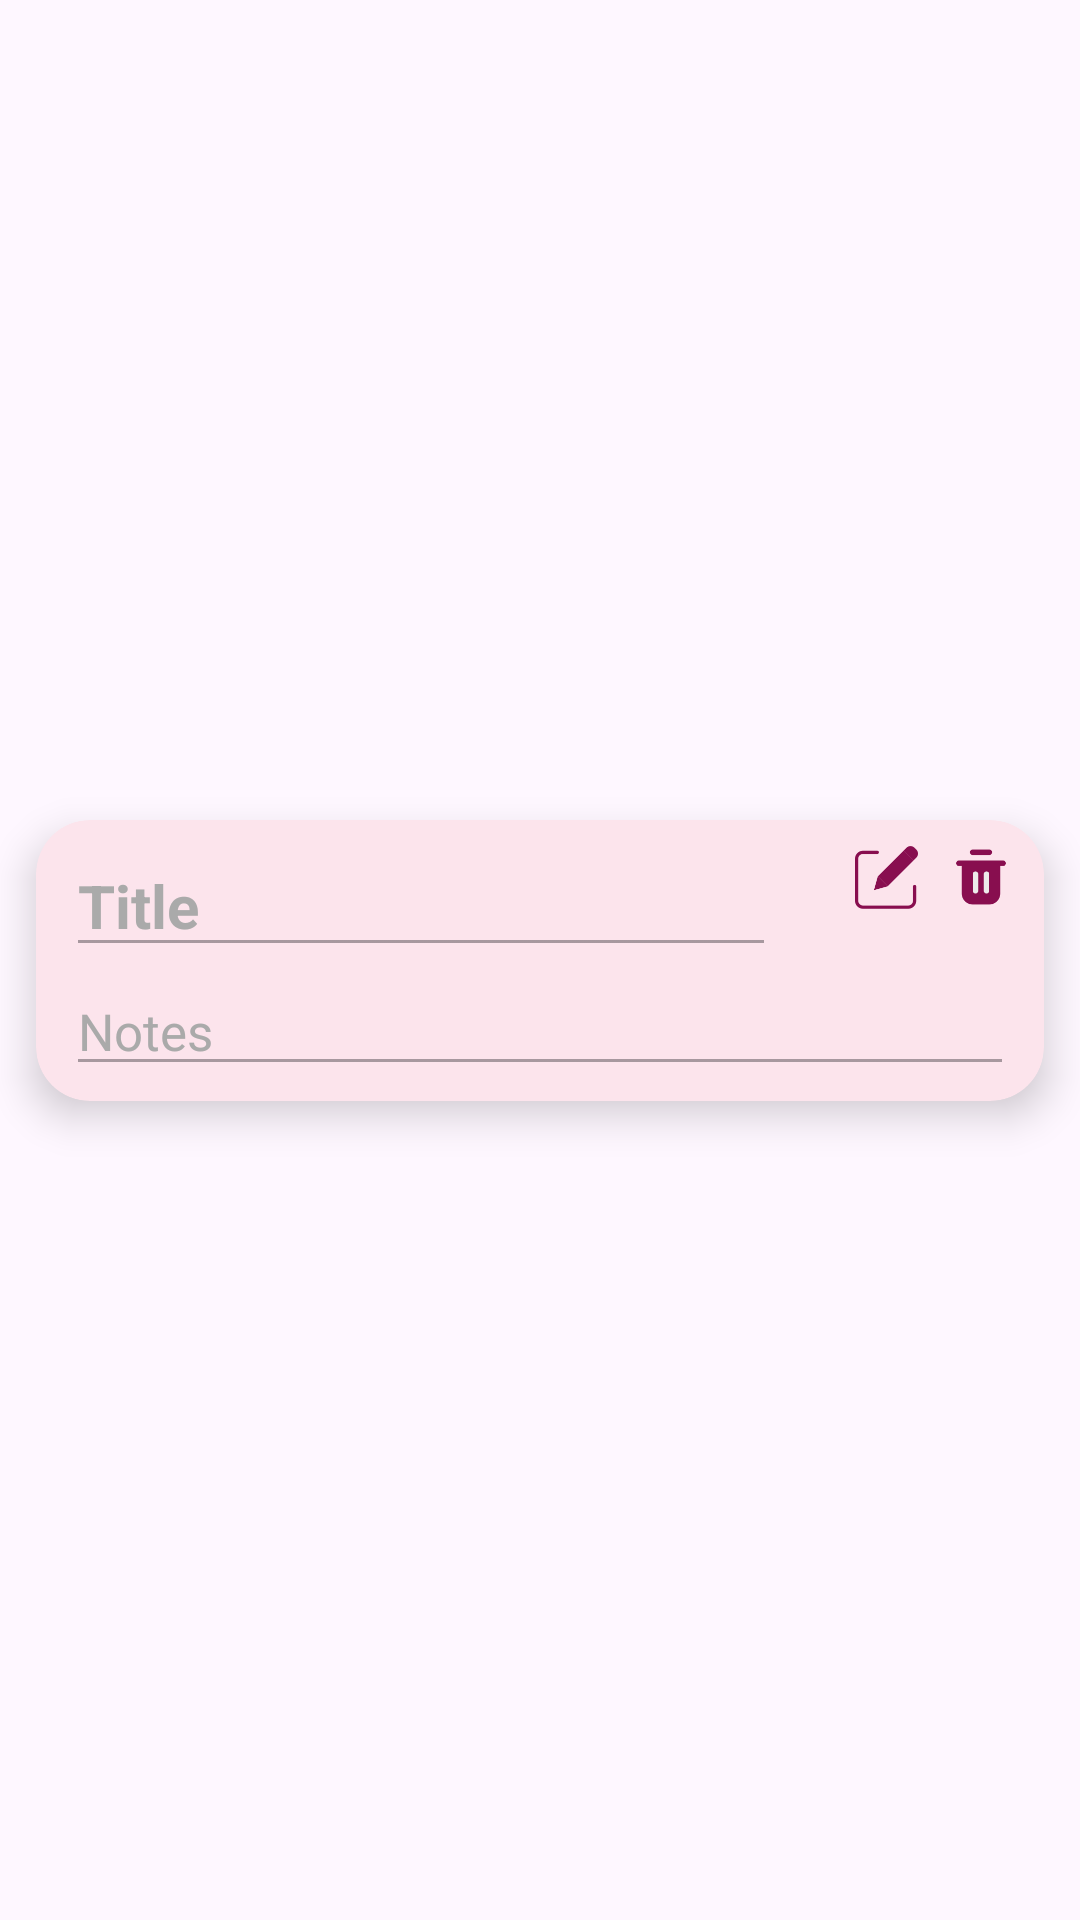

Locate icon controls on the screen. Image size 1080*1920, boxes as Rect(x1, y1, x2, y2).
delete: Rect(956, 849, 1006, 905)
update: Rect(855, 846, 918, 909)
